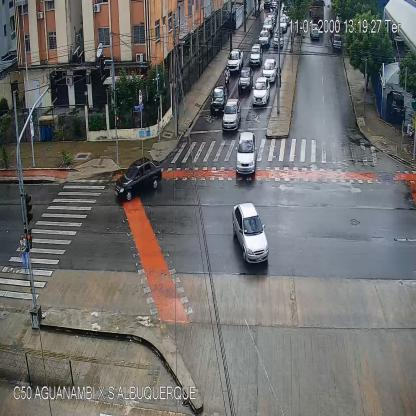car: (232, 202, 269, 263), (114, 157, 162, 199), (235, 131, 257, 176), (222, 98, 240, 132), (252, 77, 270, 106), (210, 86, 225, 116), (238, 67, 253, 92), (263, 60, 277, 84), (228, 49, 244, 69), (250, 44, 261, 64), (259, 28, 270, 45), (274, 32, 284, 48), (332, 36, 342, 50), (311, 22, 319, 38), (262, 18, 271, 30), (279, 18, 286, 30)
motorbike: (224, 66, 230, 84)
person: (20, 234, 28, 271)
truck: (310, 1, 324, 20)
